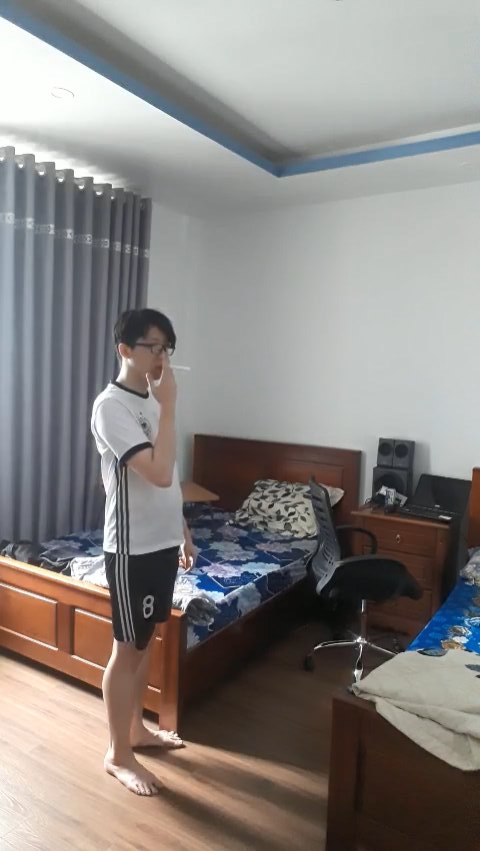cigarette: (168, 361, 193, 375)
person: (73, 286, 210, 804)
